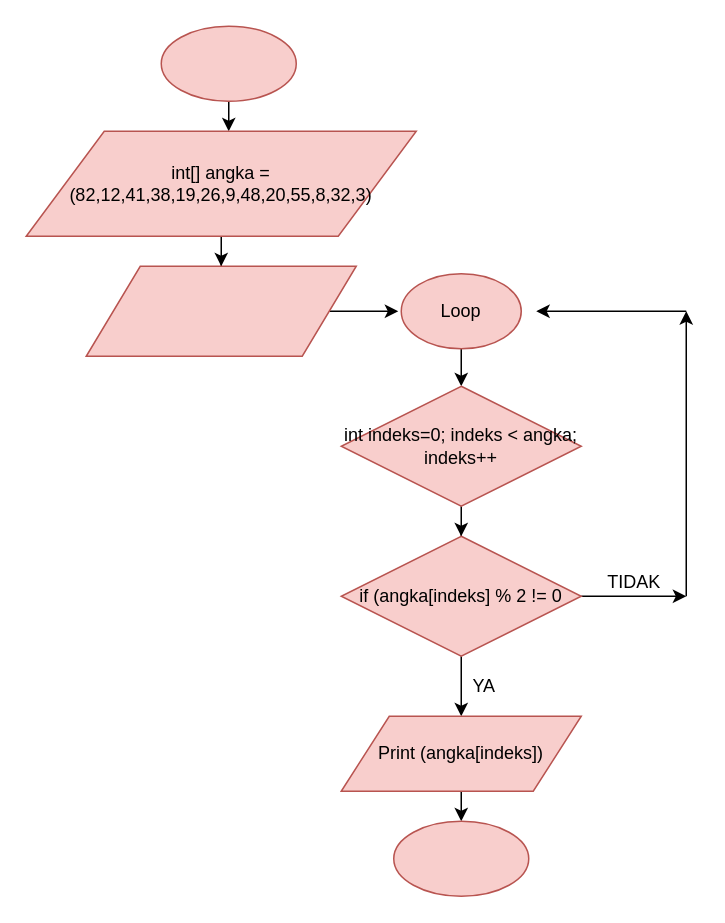
This 725x923 diagram has some shape labels left out. The centre of each missing label's shape, as x and y in pixels:
"Mulai" belongs at point 228,63.
"Print angka ganjil dari array" belongs at point 220,310.
"Selesai" belongs at point 460,858.
